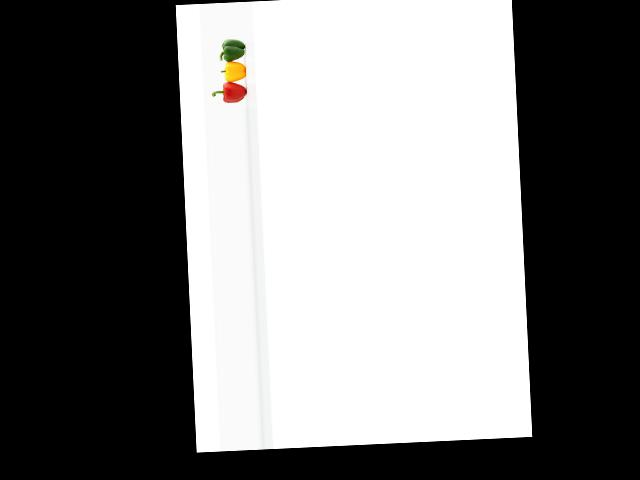bell_pepper: (209, 78, 250, 109)
